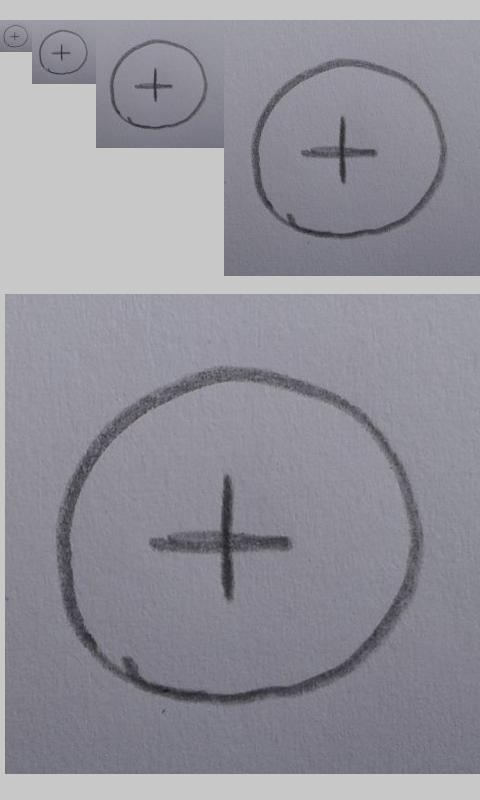button: (53, 366, 424, 707), (251, 57, 448, 239), (109, 37, 208, 131), (38, 29, 88, 75), (3, 24, 28, 48)
